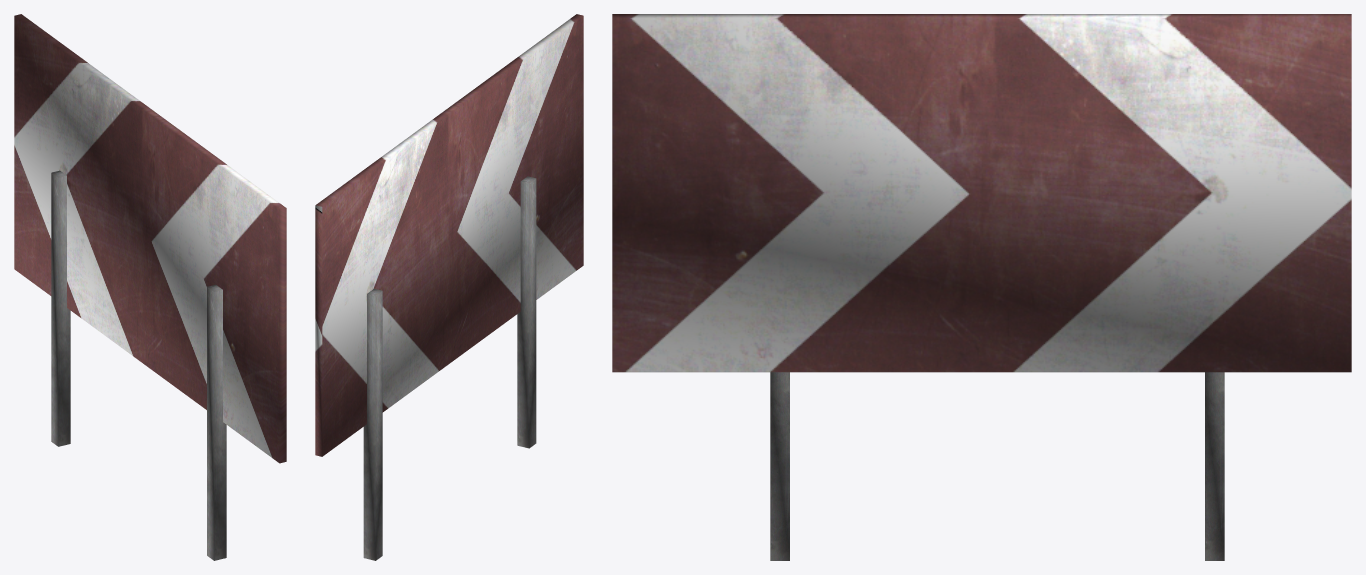
The model's file is sign_narrow_tall_right_small.fbx.
3 renders of one model, left to right at view 1: azimuth 30°, elevation 25°; view 2: azimuth 150°, elevation 25°; view 3: azimuth 270°, elevation 25°, orthographic. The views are drawn at different scales.
Parts seen in each view (by area): view 1: sign_narrow; view 2: sign_narrow; view 3: sign_narrow.
Part boxes in pixels (box(x1,y1,x2,y2)): sign_narrow: box(14, 14, 286, 560); sign_narrow: box(315, 14, 583, 560); sign_narrow: box(612, 14, 1351, 560).
Size of the model in its own units: 1.09 by 26 by 32.
